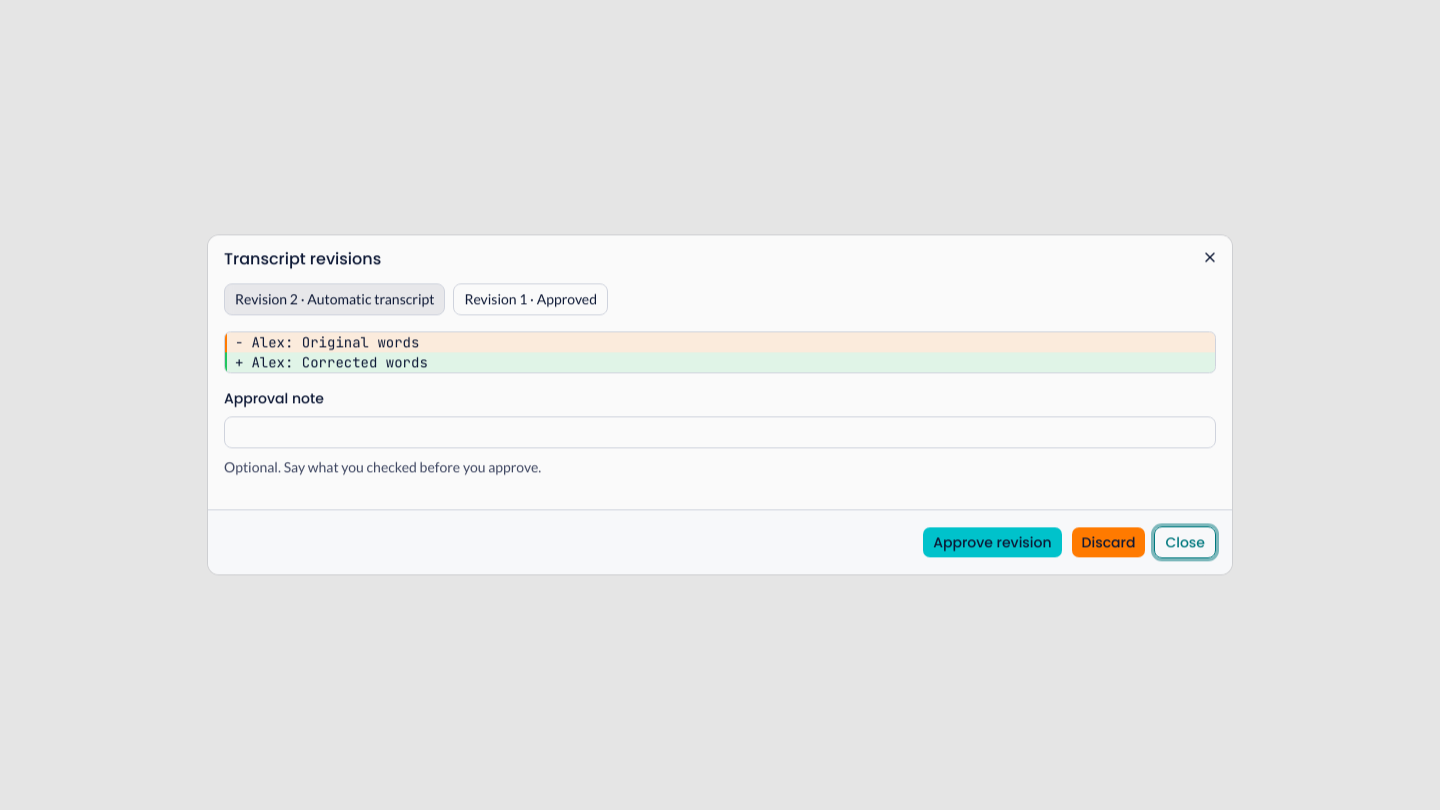
it: compares the selected revision and approves that revision with the review note
The width and height of the screenshot is (1440, 810).
Later steps or results of the test are not shown.
Expected: the dialog "Transcript revisions" is shown, [208, 235, 1232, 575]
Click the button "Revision 1 · Approved" at (531, 299), box [453, 283, 608, 315]
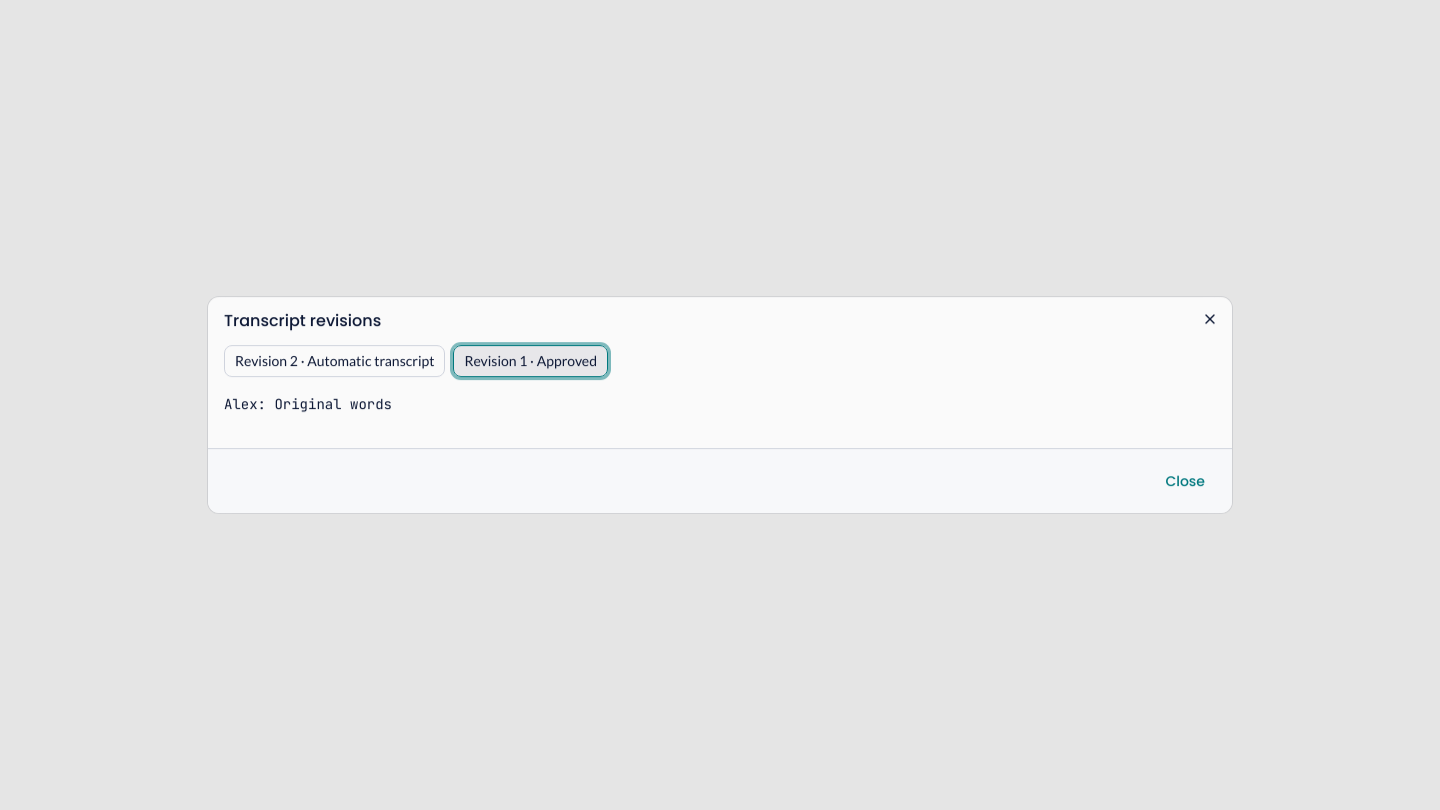
Expected: the text "Alex: Original words" is shown, [224, 395, 392, 413]
Now the button "Approve revision" is gone
